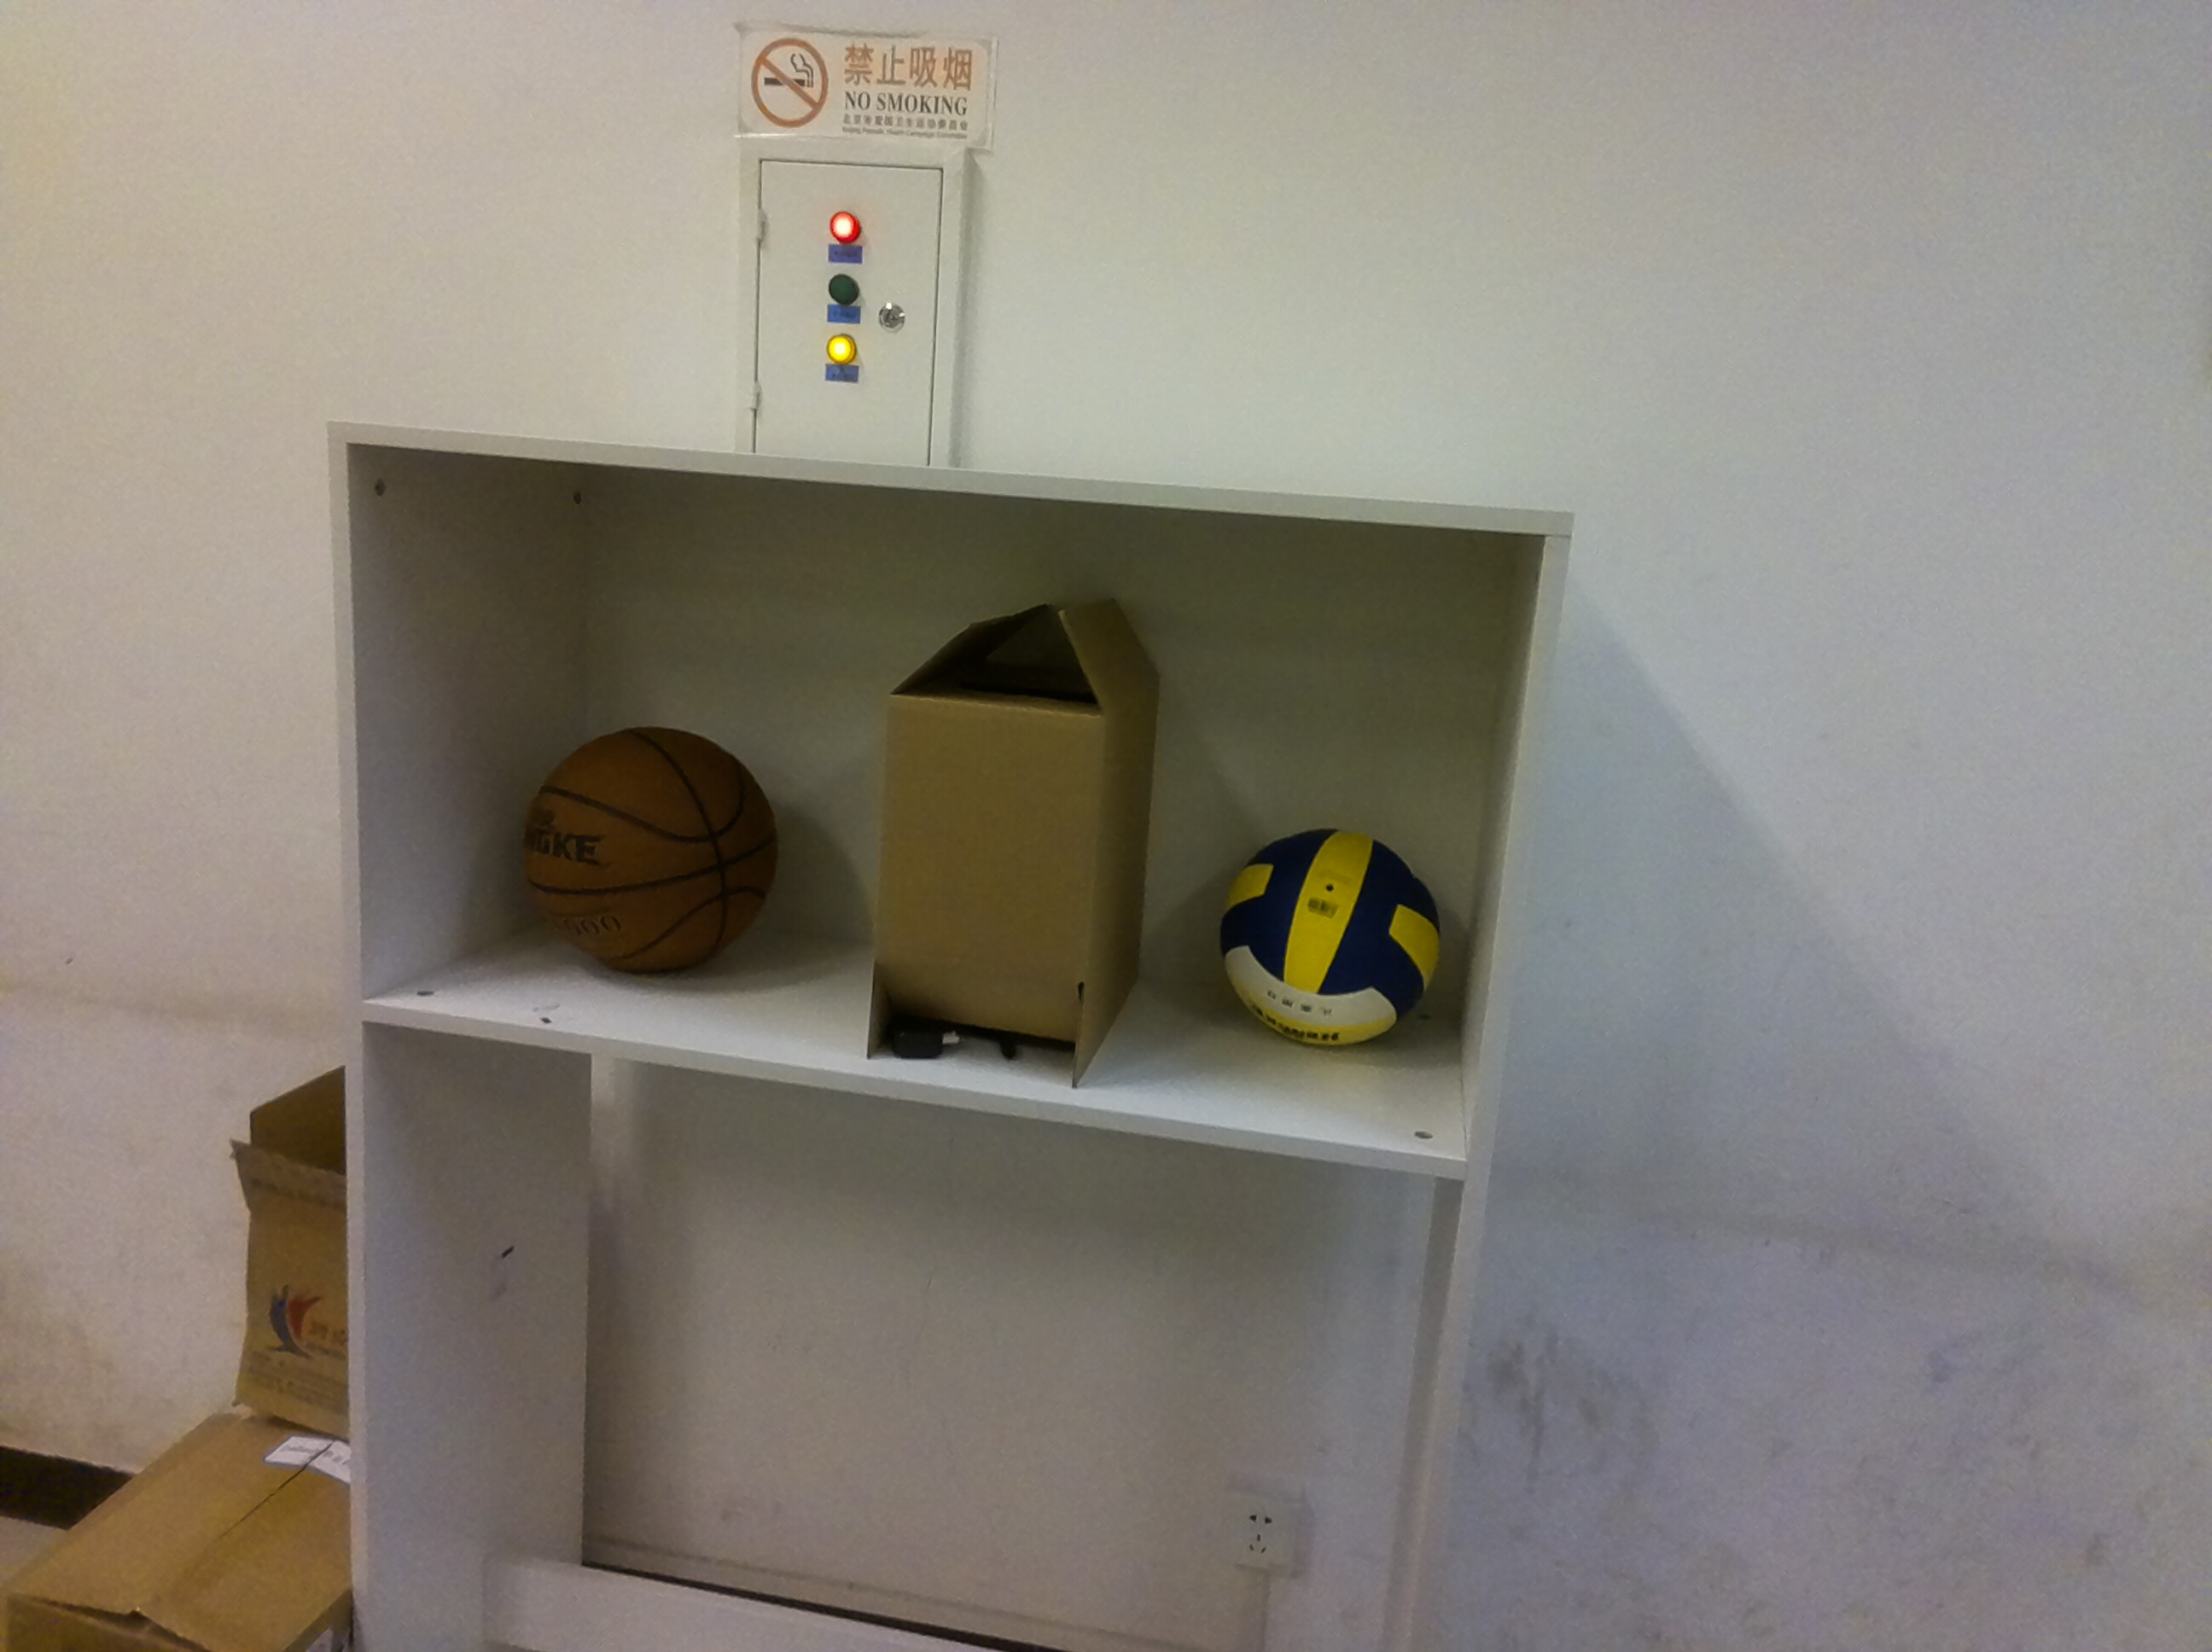basketball: (514, 710, 786, 986)
volleyball: (1211, 812, 1454, 1059)
